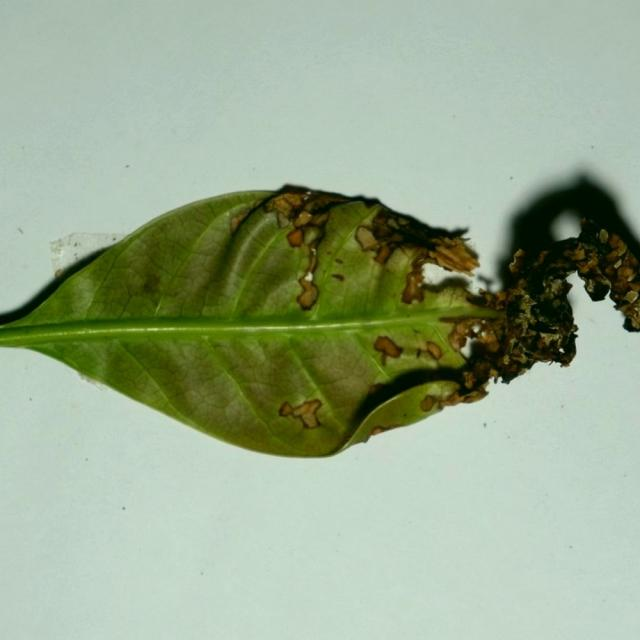Anthracnose: (385, 224, 481, 305), (455, 312, 528, 393), (574, 240, 615, 298), (374, 334, 441, 366), (279, 192, 348, 223), (421, 380, 483, 414), (443, 316, 494, 354), (298, 248, 326, 313), (356, 222, 398, 264), (278, 398, 323, 429), (265, 192, 307, 218), (401, 268, 426, 305), (617, 297, 640, 330), (555, 330, 578, 363), (507, 248, 533, 276), (470, 358, 492, 384), (368, 421, 405, 436), (515, 293, 539, 316), (140, 271, 163, 292), (563, 244, 589, 262), (575, 253, 600, 271), (537, 330, 562, 348), (302, 225, 322, 246), (550, 279, 573, 297), (449, 330, 468, 351), (230, 211, 248, 233), (306, 250, 319, 276), (287, 228, 304, 247), (384, 340, 403, 357), (471, 379, 491, 395), (372, 212, 393, 227), (419, 395, 437, 412), (462, 371, 478, 390), (617, 266, 635, 282), (303, 399, 322, 414), (278, 401, 294, 417), (276, 212, 291, 229), (367, 382, 384, 397), (614, 297, 633, 310), (611, 243, 626, 258), (622, 290, 638, 304), (609, 234, 624, 248), (340, 433, 353, 448), (598, 229, 609, 243), (370, 426, 385, 436), (613, 258, 623, 269), (381, 353, 389, 365), (331, 274, 344, 281), (633, 291, 640, 304), (633, 281, 640, 293), (54, 269, 63, 278), (334, 258, 343, 264)
Mango: (0, 177, 639, 461)
